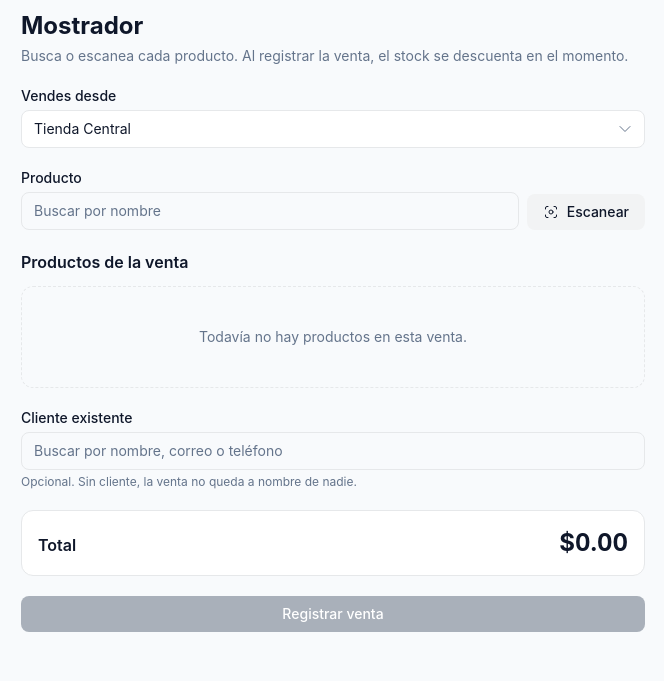
it: el mostrador con varios locales (T5-14) › cambiar de local recalcula el disponible de las líneas que ya había, sin volver a pedirlas
Click the dropdown labelled "Producto": (270, 211) [21,192,519,230]
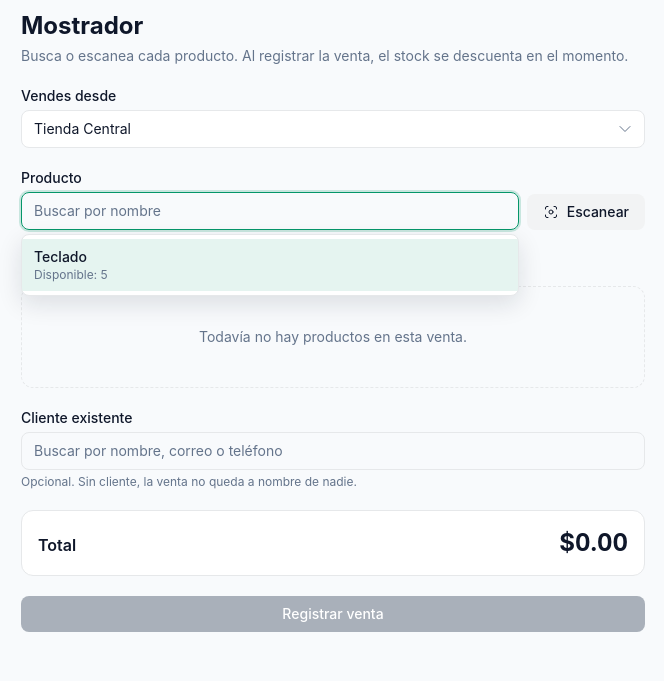
Click the option "Teclado Disponible: 5": (60, 256) [22,239,518,291]
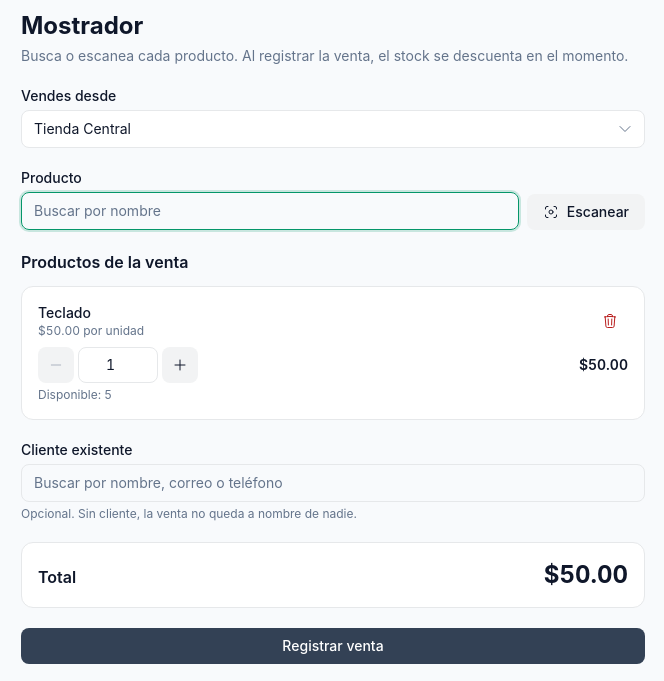
Replace the text in the number field named "Cantidad de Teclado" with "3": (118, 365) [78,347,158,383]
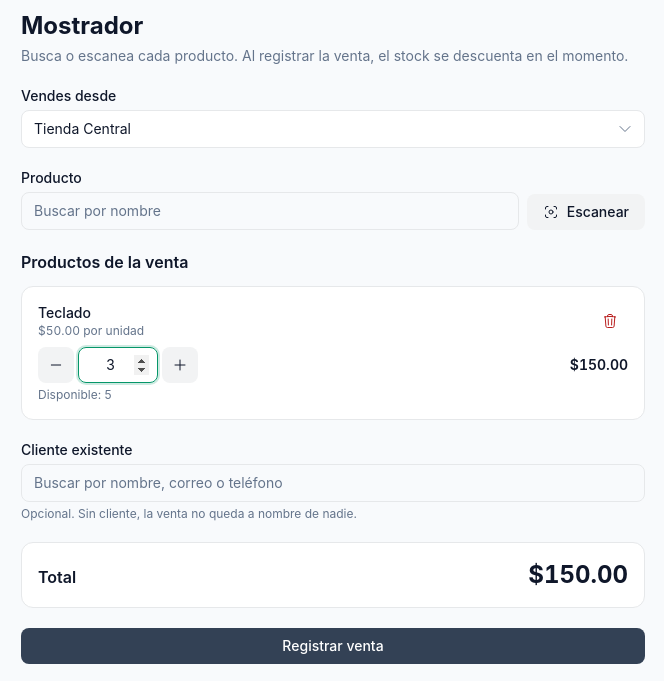
Expected: the button "Registrar venta" is enabled, [21,628,645,664]
Select "Sucursal Norte" in the dropdown labelled "Vendes desde": (333, 129) [21,110,645,148]
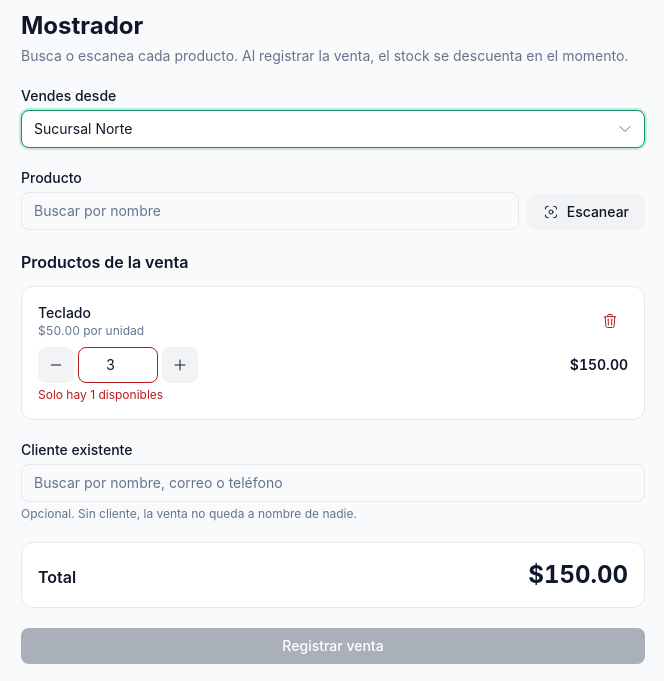
Now the text "Solo hay 1 disponibles" is shown, box [38,387,163,402]
Now the button "Registrar venta" is disabled, box [21,628,645,664]
